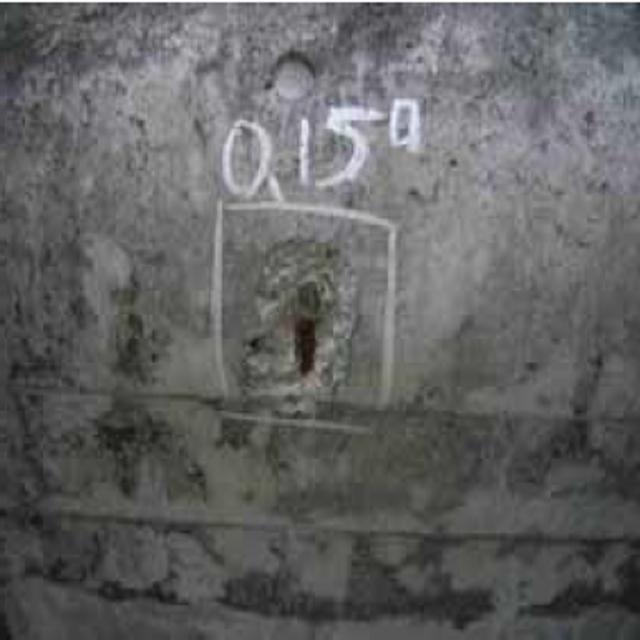spalling: (228, 223, 372, 423)
